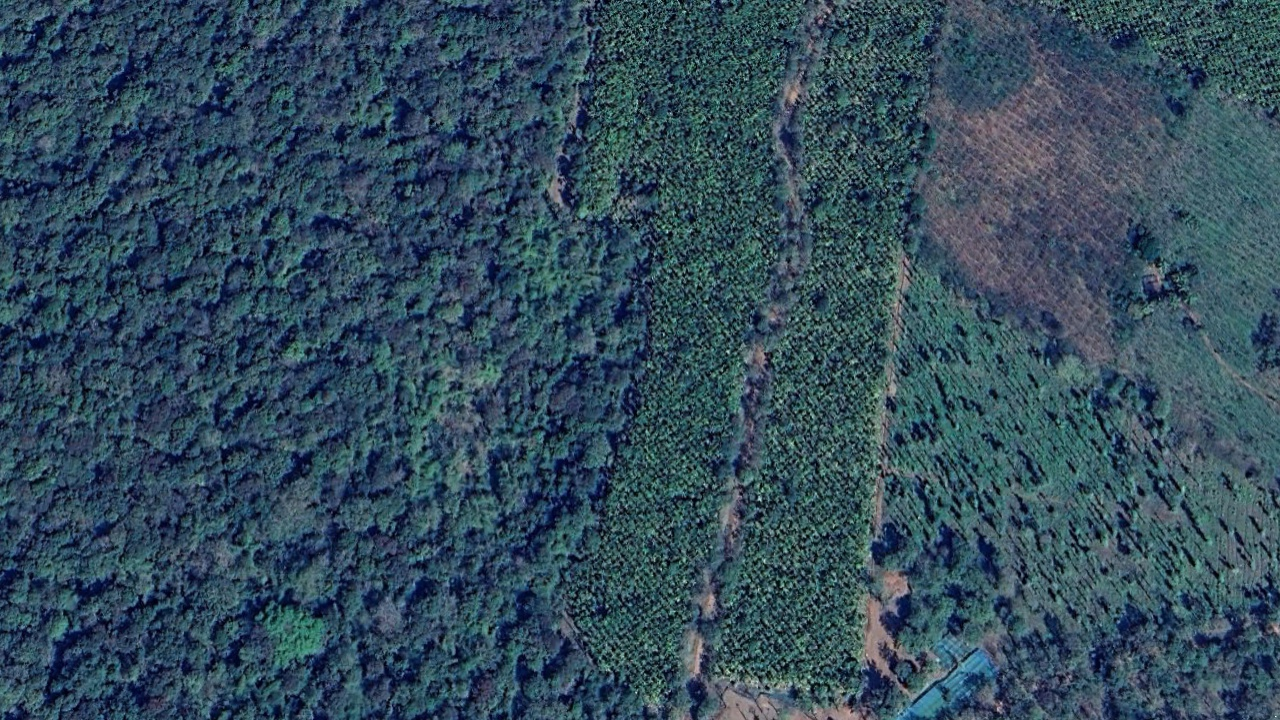arecanut: (547, 6, 944, 696), (1054, 1, 1279, 109)
